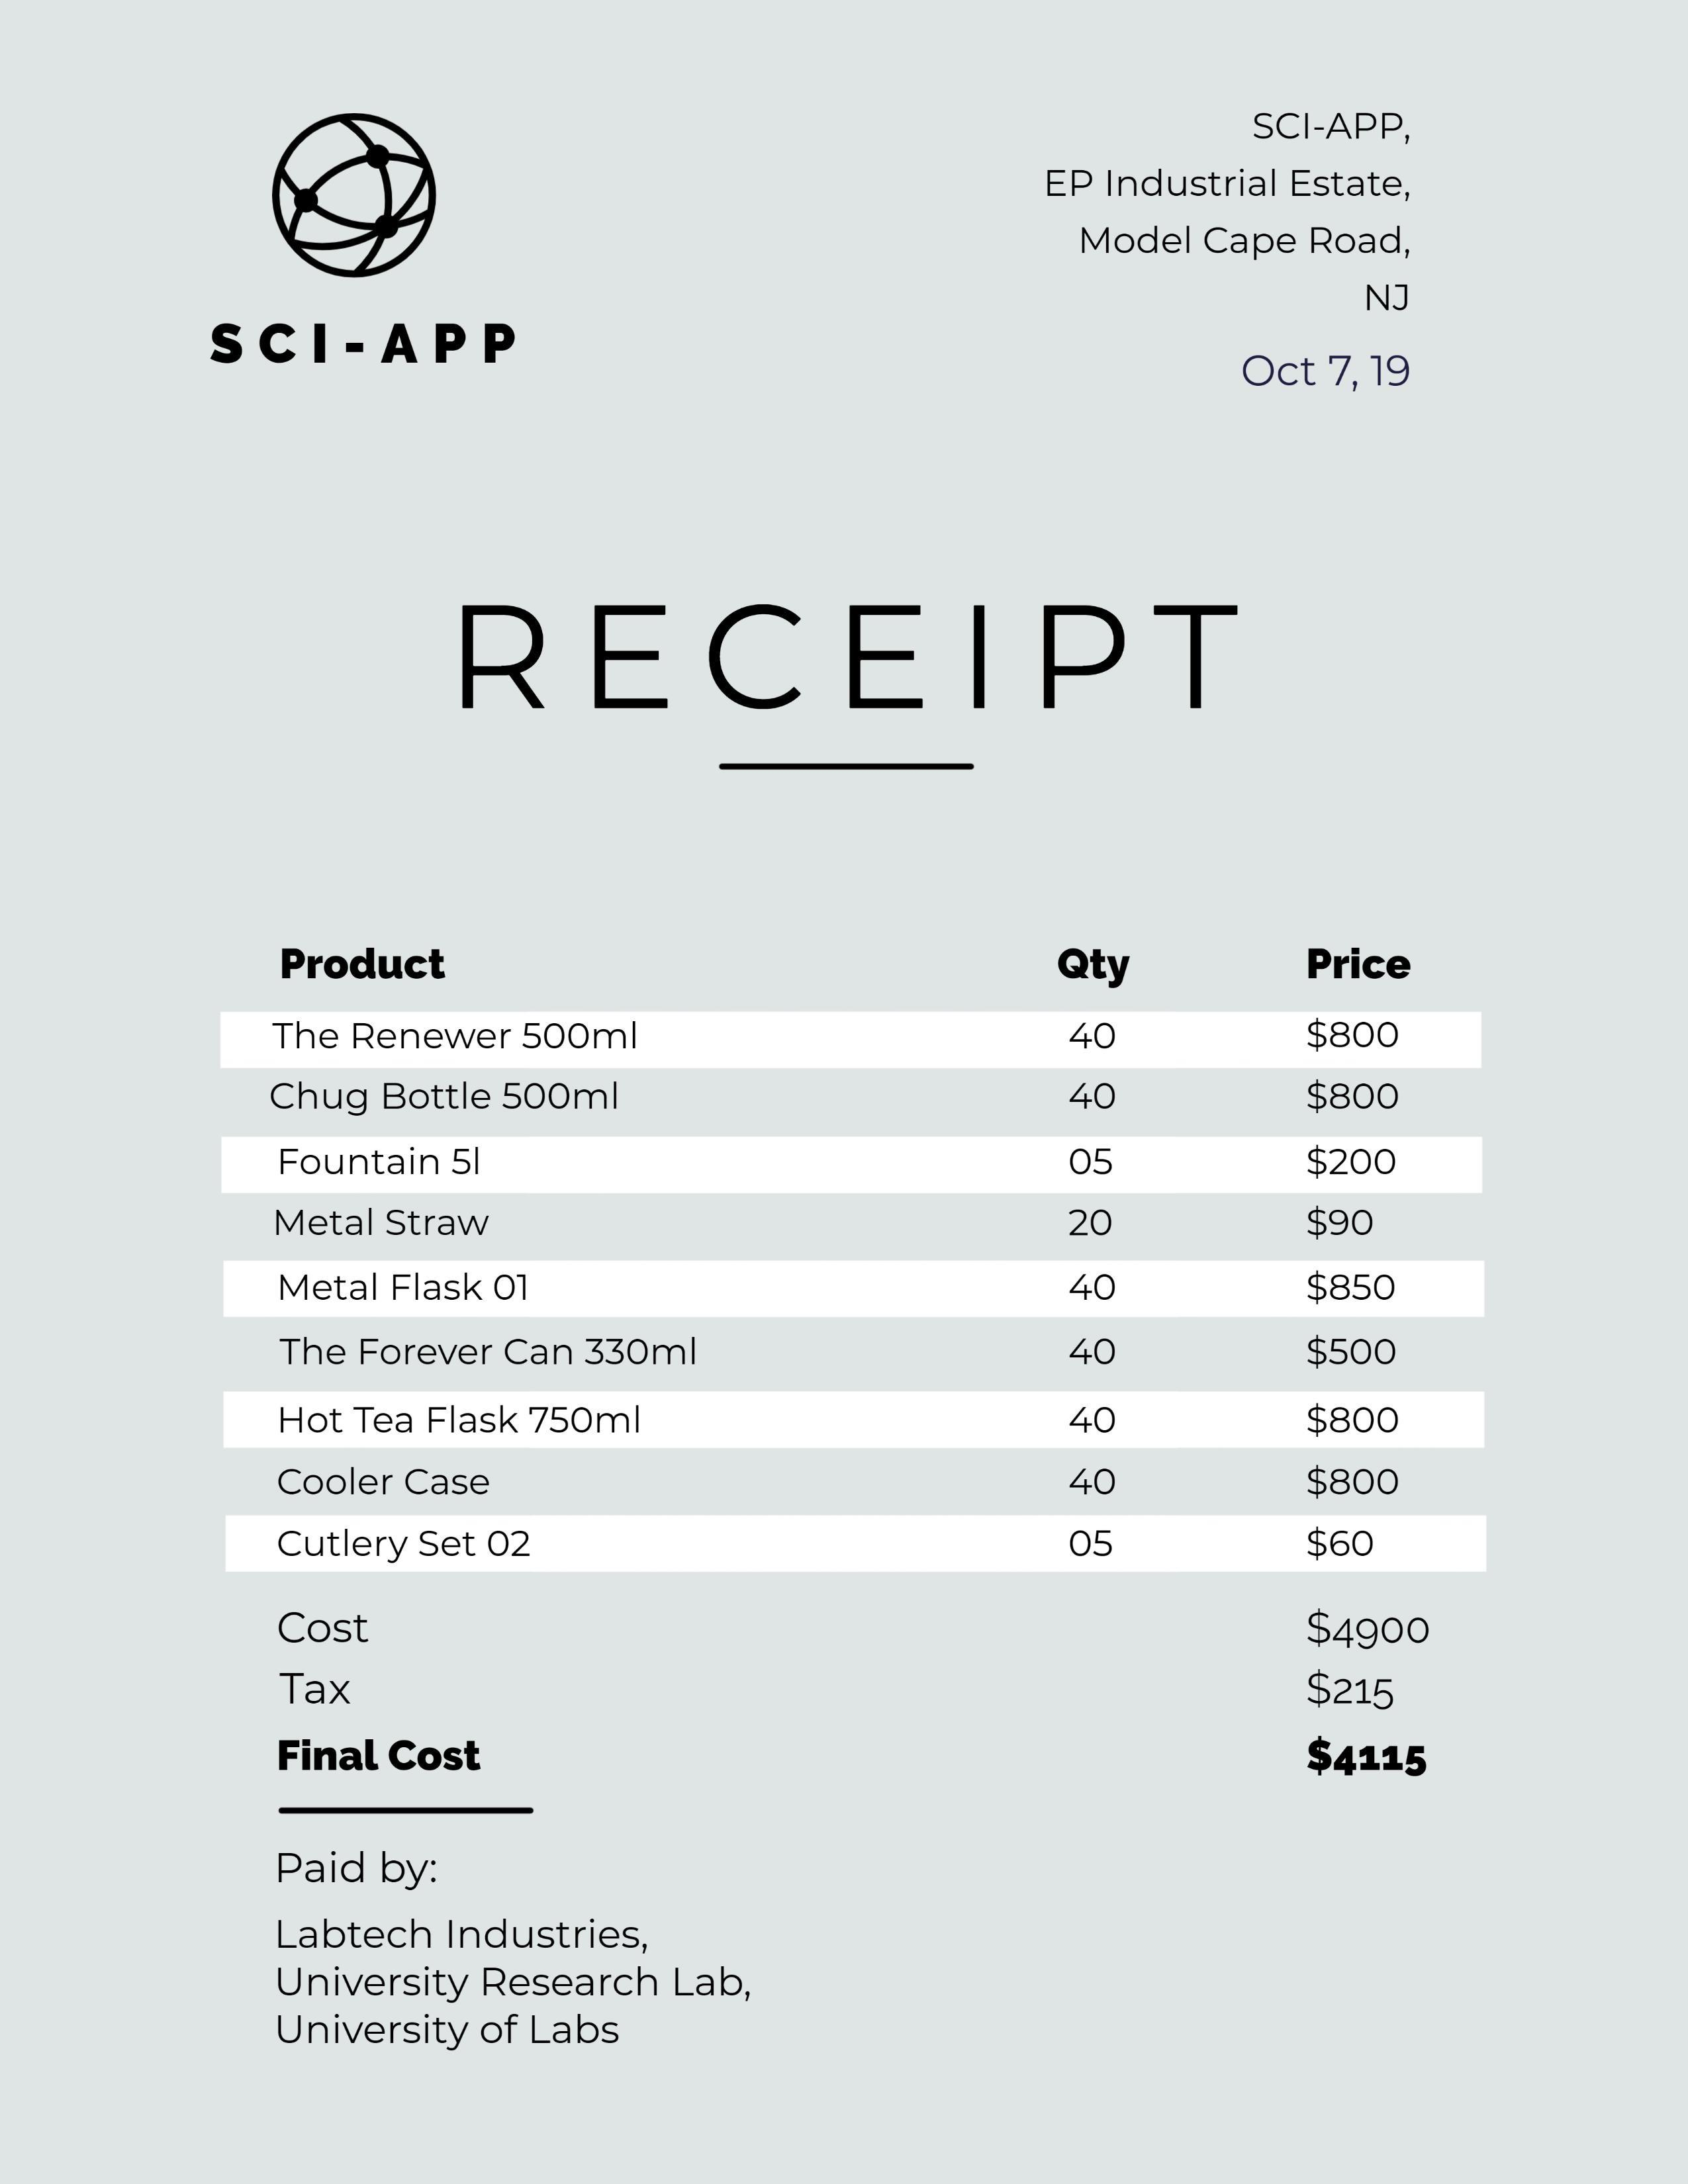ROI: (216, 940, 1470, 1570), (249, 1599, 1464, 1785), (1034, 105, 1419, 404), (267, 1844, 782, 2067), (189, 295, 548, 383)
